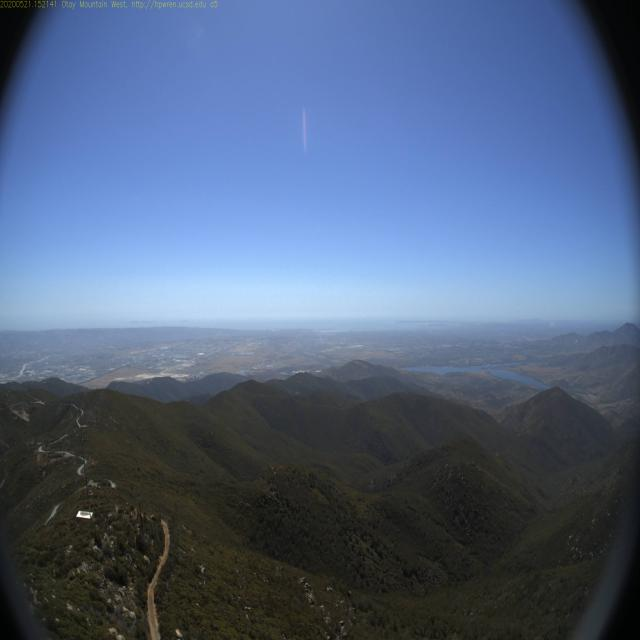smoke: (540, 304, 560, 336)
